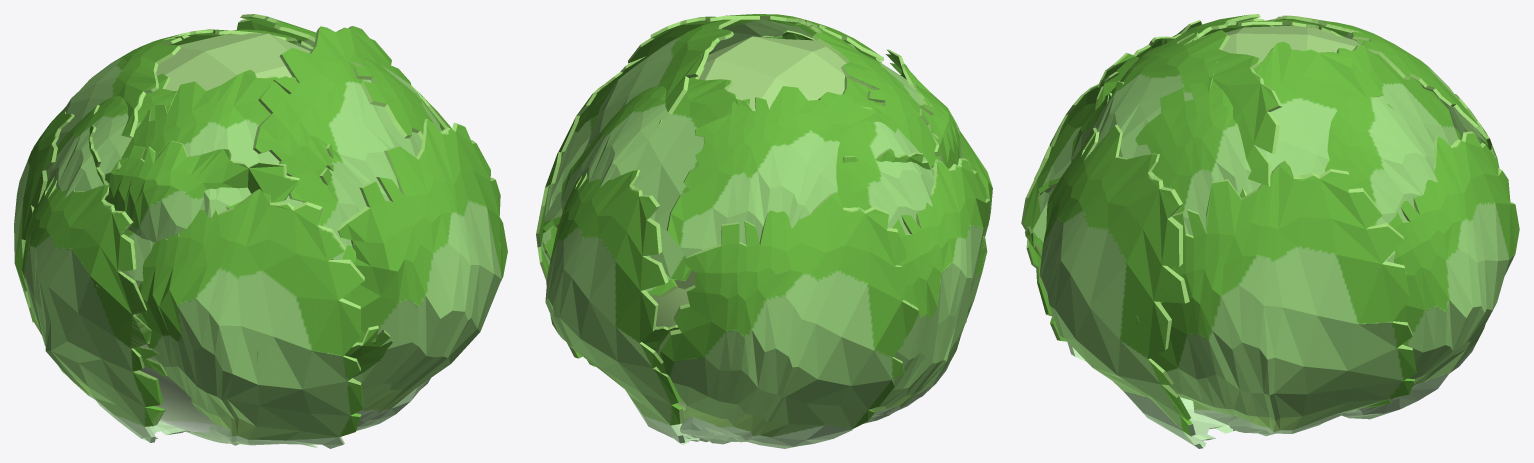
Rendered from yangbaechu_fifinal.fbx.
3 renders of one model, left to right at view 1: azimuth 30°, elevation 25°; view 2: azimuth 150°, elevation 25°; view 3: azimuth 270°, elevation 25°, orthographic.
Parts seen in each view (by area): view 1: Cloner, Sphere, Sphere_1; view 2: Cloner, Sphere, Sphere_1; view 3: Cloner, Sphere.
Part boxes in pixels (x1=…): Cloner: x1=14, y1=14, x2=507, y2=448; Sphere: x1=156, y1=33, x2=310, y2=90; Sphere_1: x1=139, y1=344, x2=216, y2=432; Cloner: x1=536, y1=14, x2=992, y2=448; Sphere: x1=674, y1=36, x2=855, y2=289; Sphere_1: x1=583, y1=143, x2=688, y2=410; Cloner: x1=1021, y1=14, x2=1519, y2=448; Sphere: x1=1222, y1=25, x2=1358, y2=61.
Size of the model in its own units: 244 by 215 by 249.
